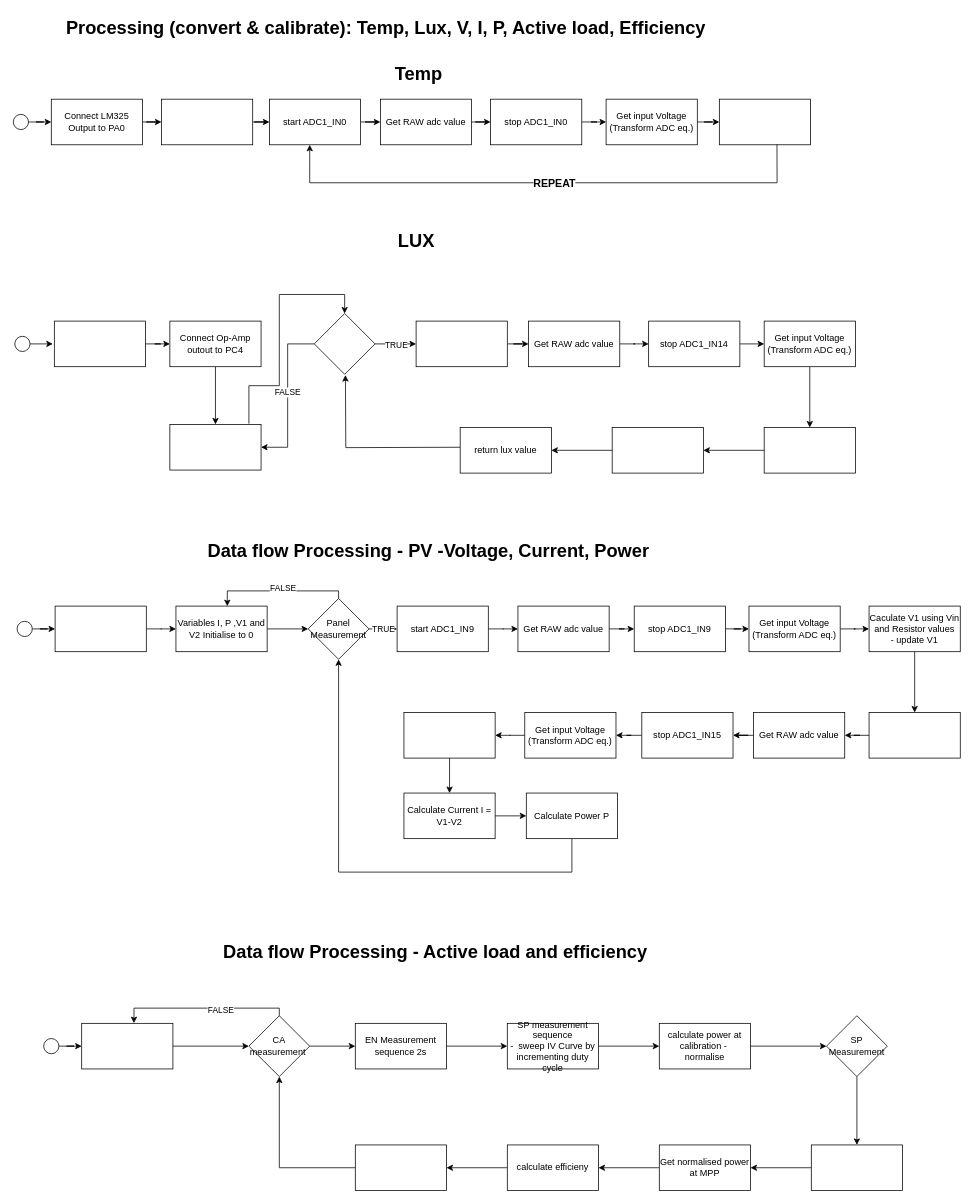
Some shapes in this 974 by 1204 pixel diagram are drawn without their labels. Here are the shapes that lost their labels. From the top down, the centre of each, then its label:
At [207,121]: "Configure PA0 as ADC input (channel 0) (default parameters)".
At [765,121]: "Caculate temperature using Vin - return temperature".
At [100,343]: "Configure PC4 as ADC input (channel 14)".
At [344,343]: "Environment Meaure".
At [461,343]: "start ADC1_IN14".
At [215,447]: "initialise lux to 0".
At [657,450]: "Reverse current eq. to calculate lux".
At [809,450]: "Get photodiode using input voltage".
At [100,628]: "Configure PB1 and PC5 as ADC input (ch9 +ch15)".
At [449,735]: "Caculate V2 using Vin and Resistor values - update V2".
At [914,735]: "start ADC1_IN15".
At [127,1046]: "Efficieny initialized to 0".
At [400,1167]: "Print to UART/LCD".
At [856,1167]: "Sweep through IV, MPP and normalise".
